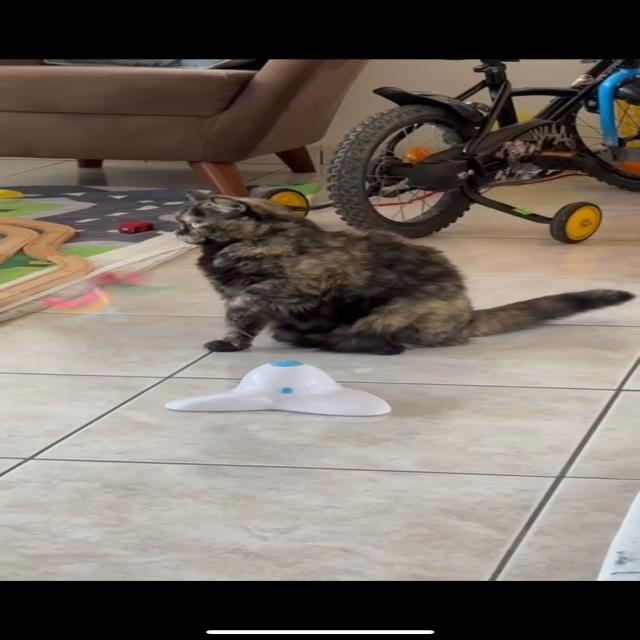authorized: (170, 189, 634, 356)
